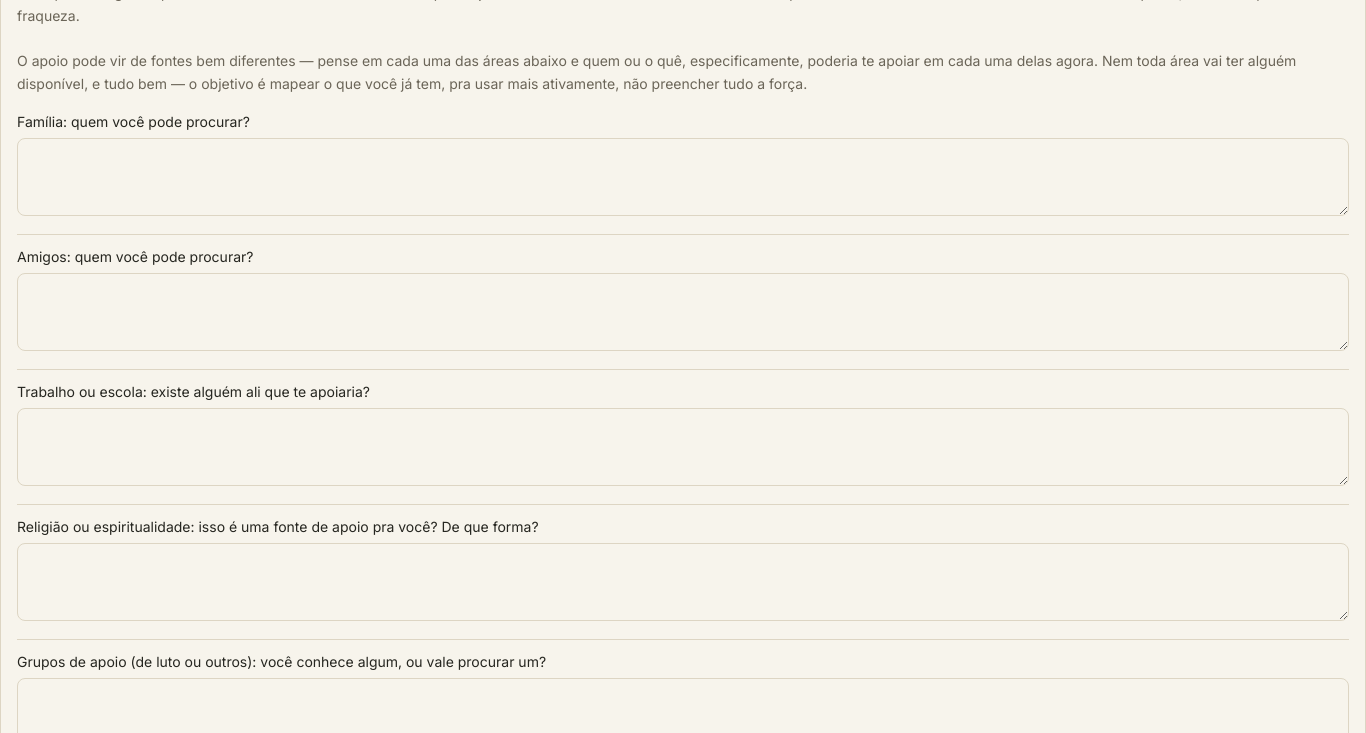
Scenario: ExerciseForm › disables submit until at least one prompt has text
Type "Minha mãe e minha melhor amiga." into the text box labelled "Família: quem você pode procurar?" at point(683, 177), box left=17, top=138, right=1349, bottom=216
(page scrolled)
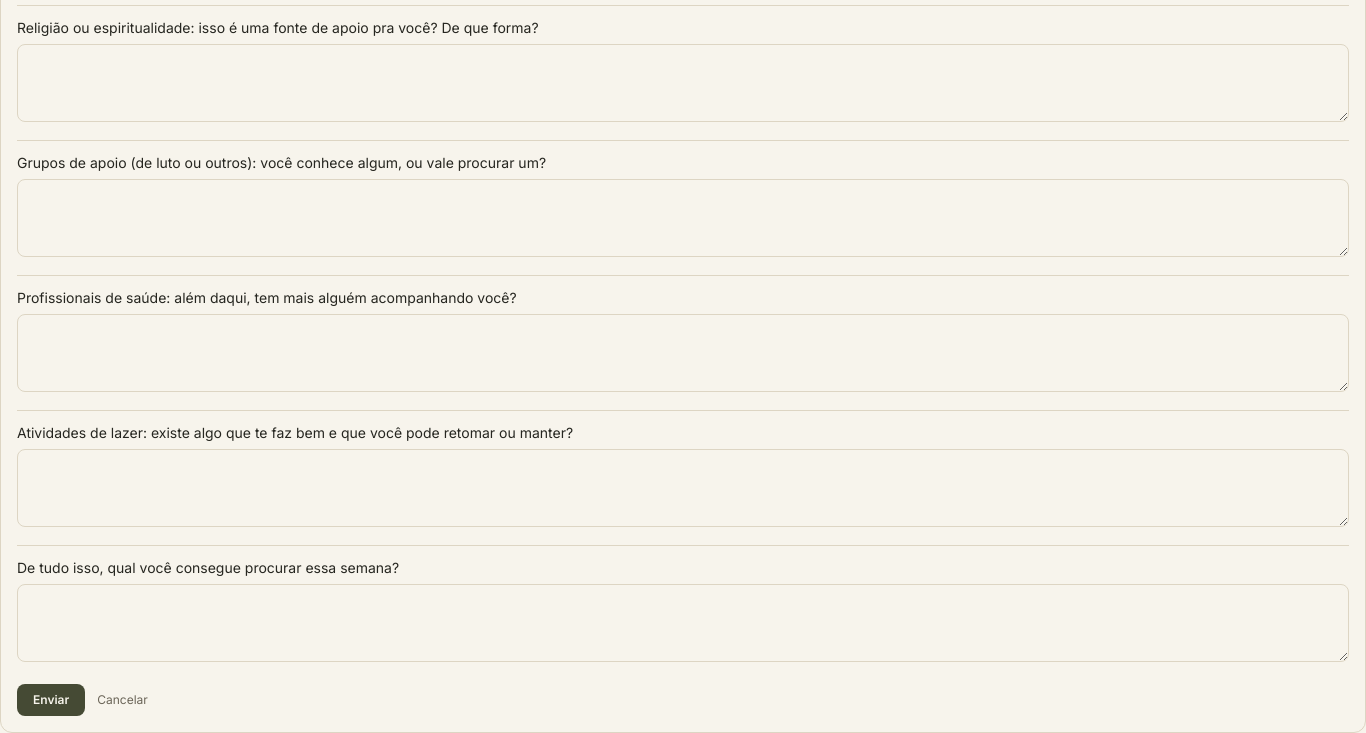
Check: the button "Enviar" is enabled, box left=17, top=684, right=85, bottom=716
